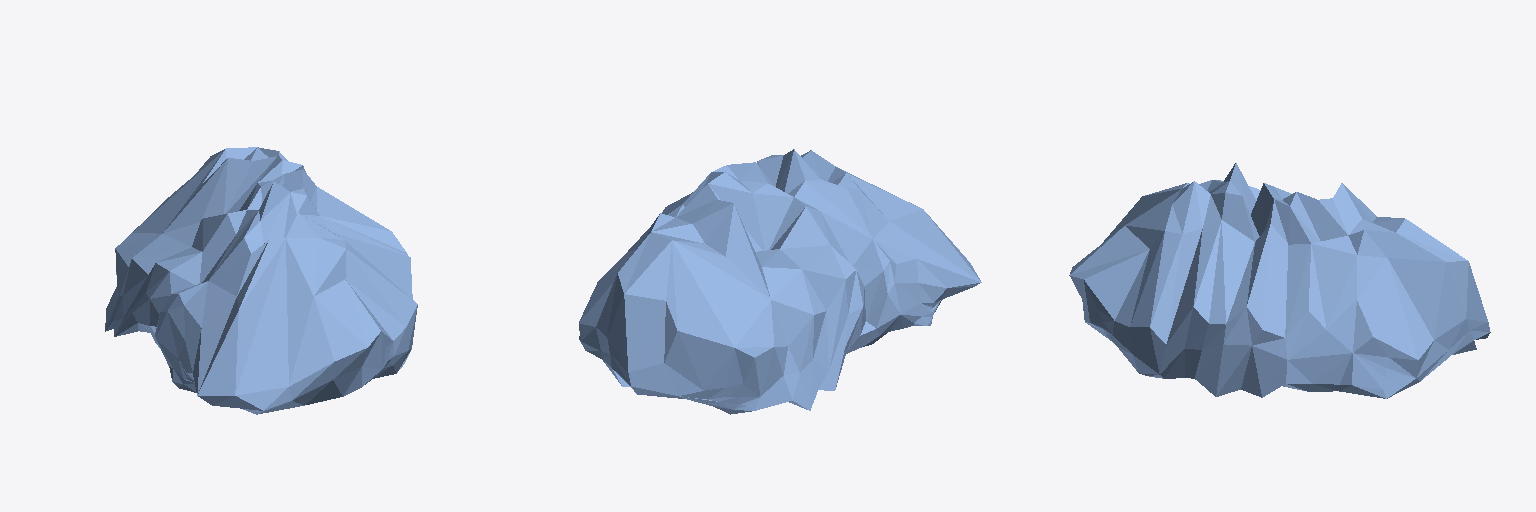
The model's file is glacier_01.obj.
The picture shows the model from 3 angles: view 1: azimuth 30°, elevation 25°; view 2: azimuth 150°, elevation 25°; view 3: azimuth 270°, elevation 25°; orthographic projection.
Parts seen in each view (by area): view 1: Box004; view 2: Box004; view 3: Box004.
Part boxes in pixels (bbox=[...]): Box004: bbox=[105, 147, 417, 414]; Box004: bbox=[579, 149, 981, 414]; Box004: bbox=[1069, 163, 1490, 398].
Bounding box in the file's own units: 12866 × 8298 × 17221.